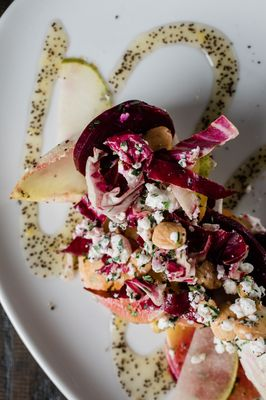sandwich: (12, 81, 263, 393)
